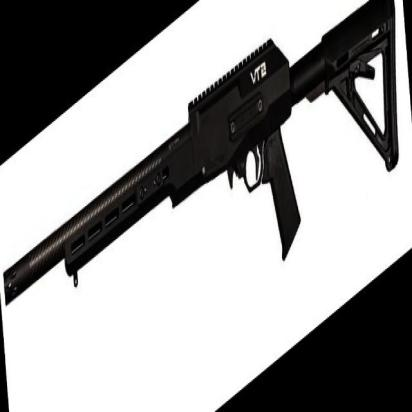Gun: (3, 0, 408, 315)
